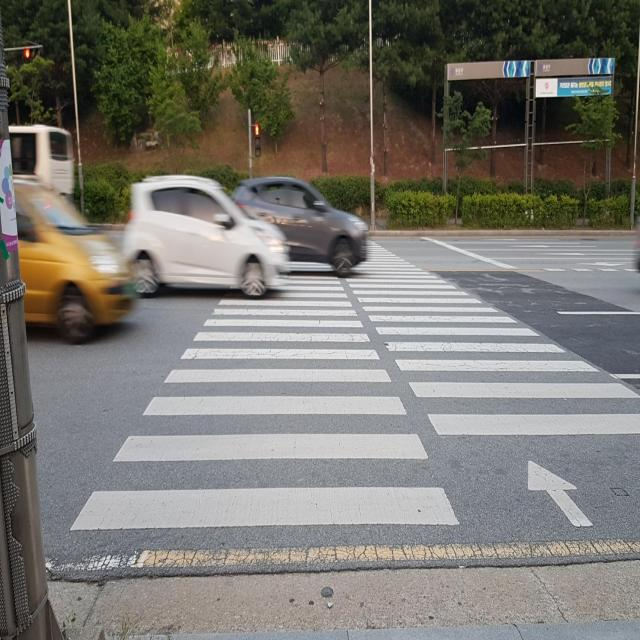빨간불: (254, 123, 262, 158)
횡단보도: (66, 231, 640, 534)
